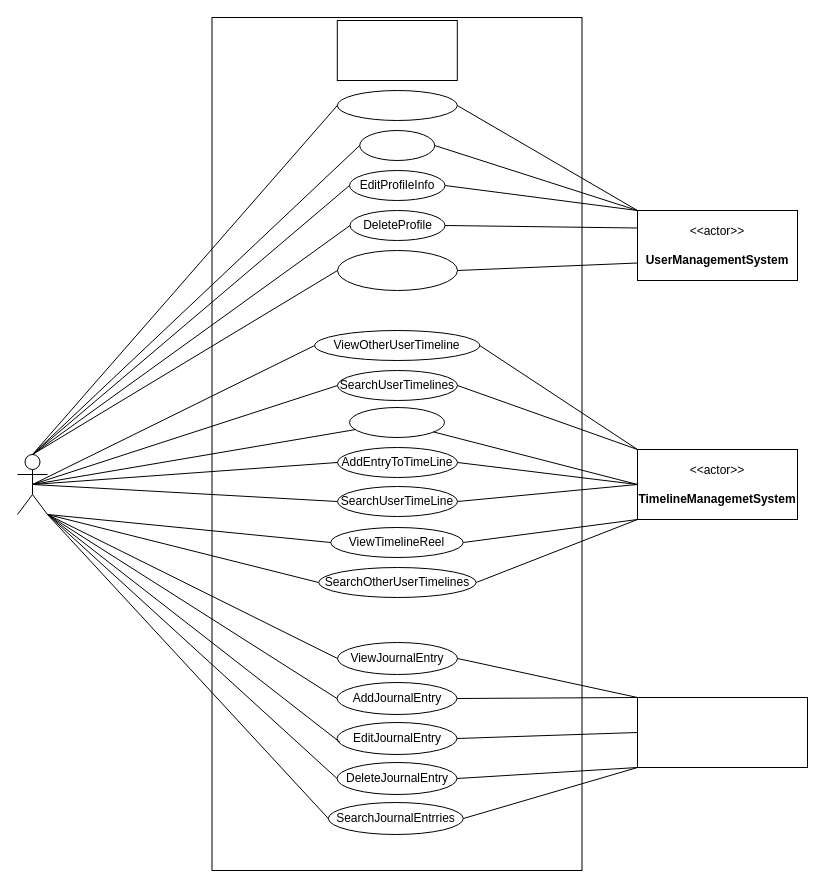
Some shapes in this 825 by 888 pixel diagram are drawn without their labels. The box of each missing label's shape, as (x1, y1, x2, y2) in pixels:
"Chroncicle" Application: (336, 20, 457, 80)
<<actor>> JournalManagementSystem: (636, 696, 808, 768)
CreateUserAccount: (336, 90, 457, 120)
User: (16, 454, 48, 514)
UserSignIn: (359, 130, 435, 160)
ViewOtherUser Profile: (336, 250, 458, 290)
ViewTimeLine: (348, 406, 444, 438)
